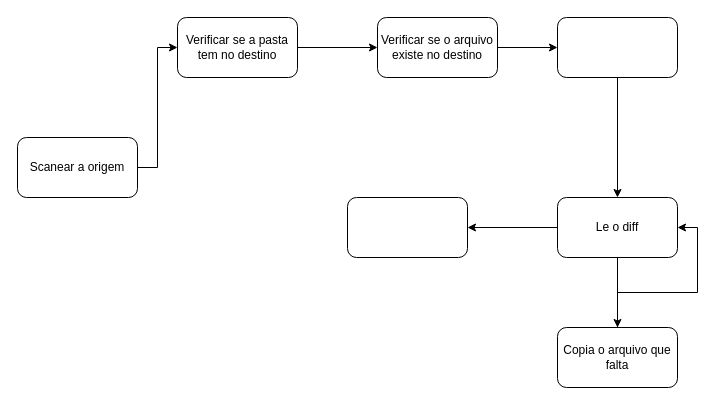
The diagram is 723 pixels wide and 405 high, and some of its shapes have lost their labels. The centre of each missing label's shape, as x and y in pixels:
Cria Diff: the point at 617,47
Publica progresso: the point at 407,227
